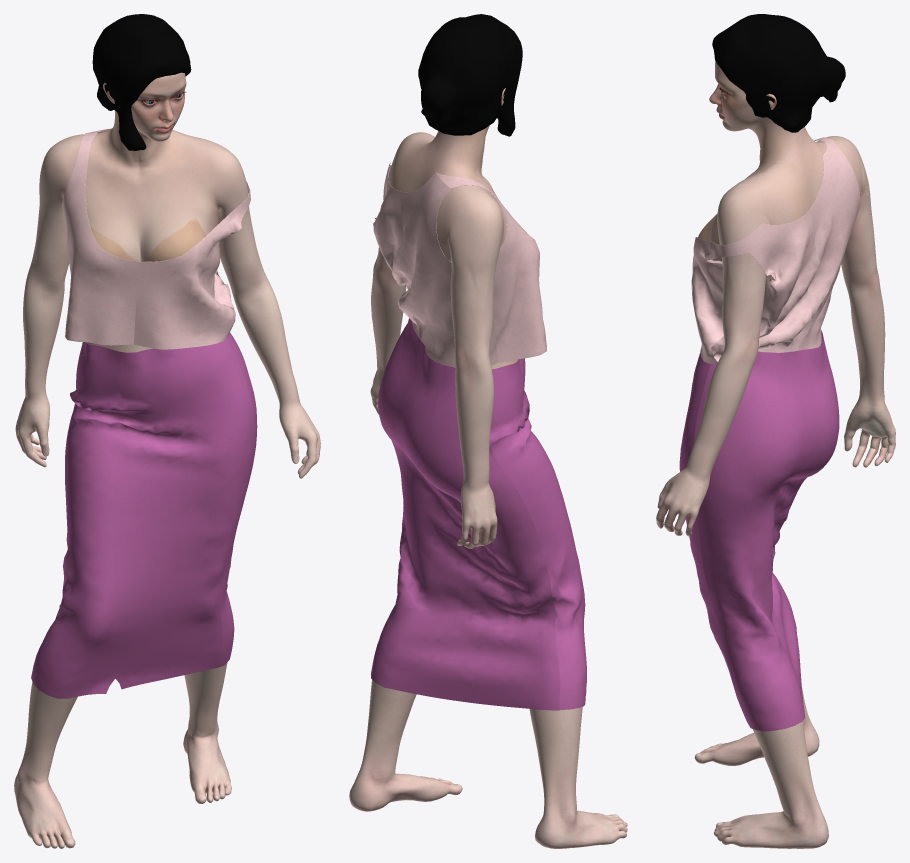
Rendered from Dramatic.obj.
3 views of the same model, side by side, from view 1: azimuth 30°, elevation 25°; view 2: azimuth 150°, elevation 25°; view 3: azimuth 270°, elevation 25° (orthographic). The views are drawn at different scales.
Bounding box in the file's own units: 612 × 1724 × 471.
